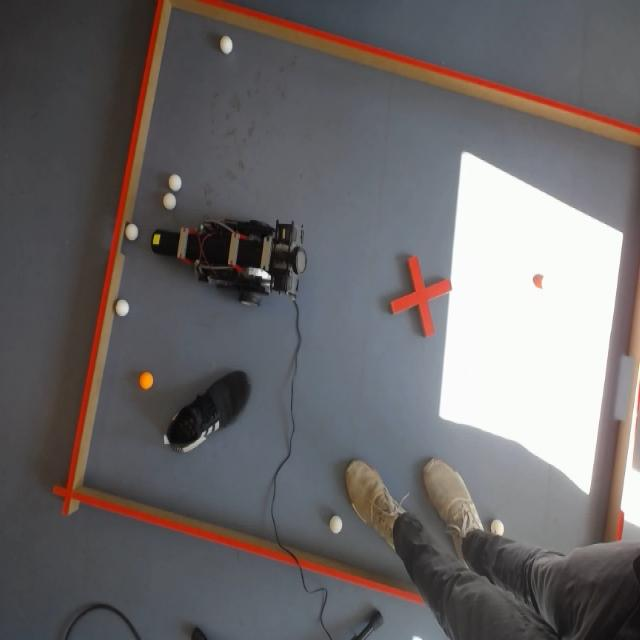orange: (137, 372, 154, 392)
robot: (151, 220, 308, 307)
robot-front: (151, 232, 162, 248)
white: (328, 514, 343, 534), (168, 172, 182, 192), (163, 189, 176, 210), (220, 33, 232, 55), (115, 299, 128, 316), (491, 520, 504, 536), (126, 224, 138, 241)
